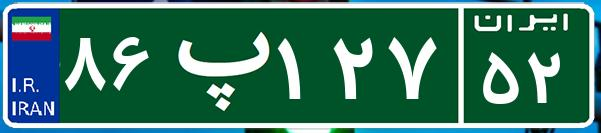1: (273, 28, 330, 110)
2: (330, 28, 385, 110), (525, 38, 570, 115)
5: (475, 38, 525, 113)
6: (110, 28, 158, 105)
7: (385, 28, 445, 110)
8: (57, 26, 110, 107)
پ: (158, 15, 273, 115)
